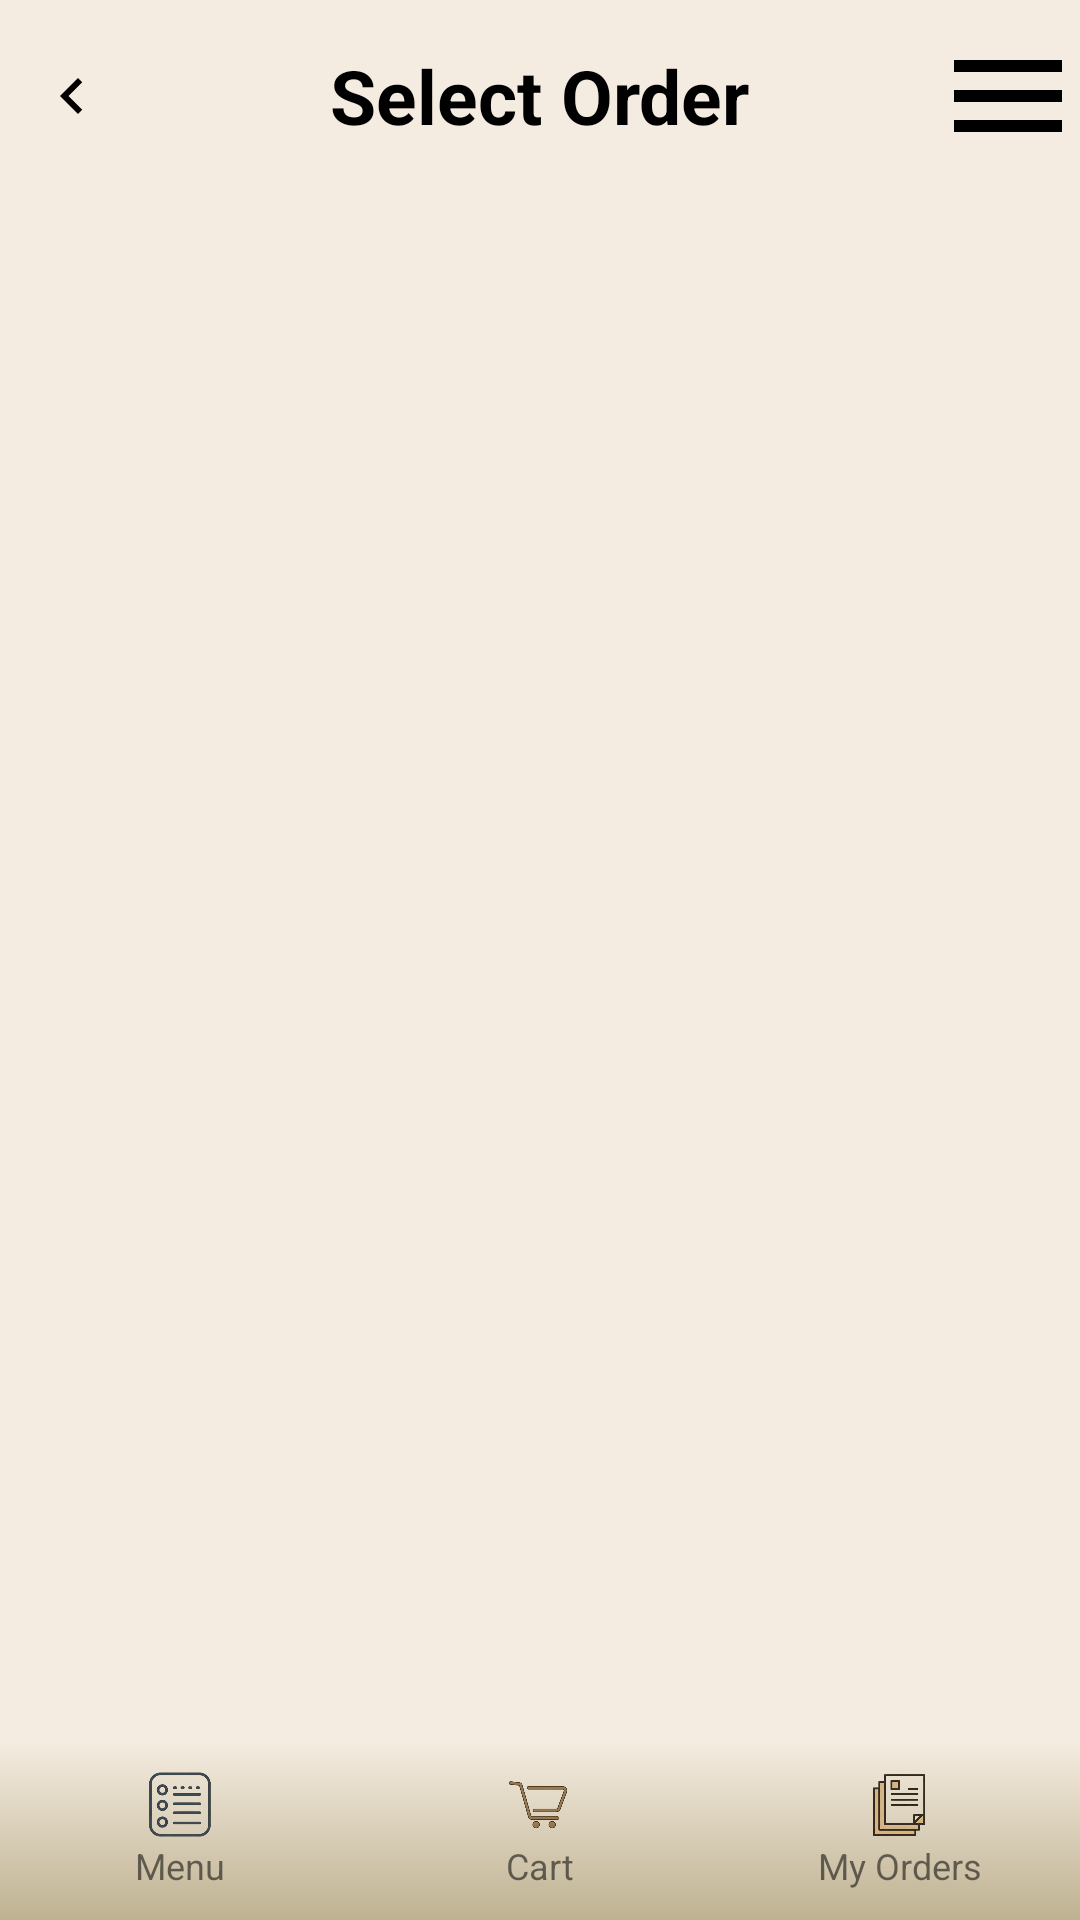

Screen size 1080*1920. Icon name, then its box in pixels as box=[x1, y1, x2, y2]:
Back: box=[60, 78, 82, 114]
